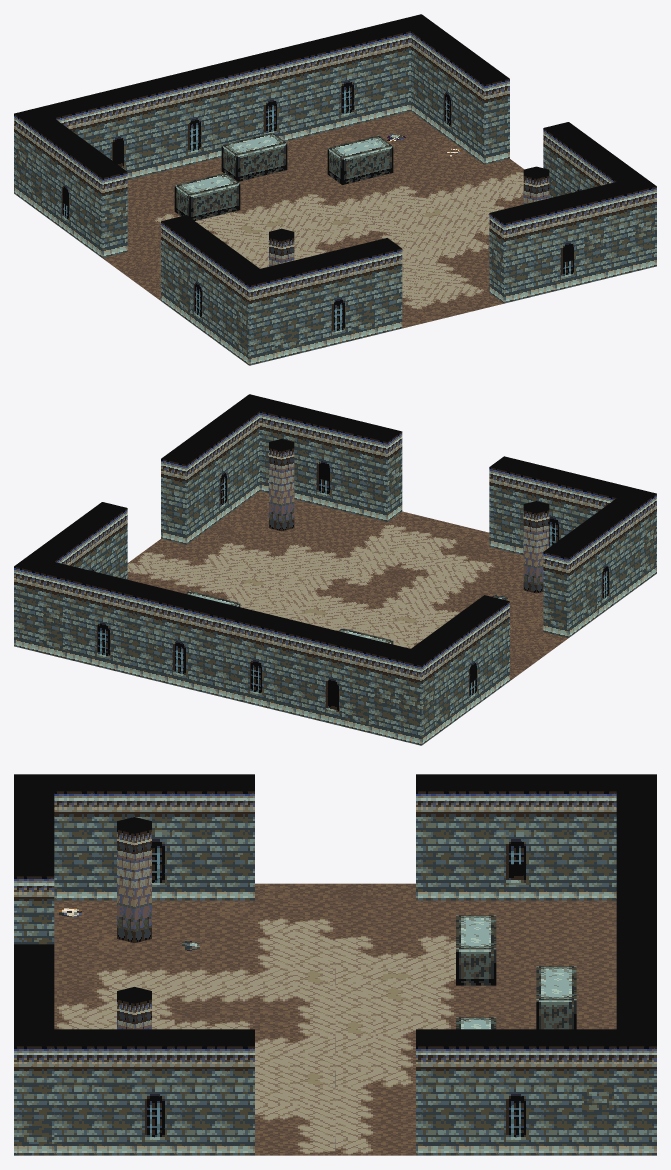
The model's file is room-swe-col.gltf.
3 renders of one model, top to bottom at view 1: azimuth 30°, elevation 25°; view 2: azimuth 150°, elevation 25°; view 3: azimuth 270°, elevation 25°, orthographic. The views are drawn at different scales.
Parts seen in each view (by area): view 1: room-swe-col; view 2: room-swe-col; view 3: room-swe-col.
Boxes of the visible parts, x1,y1,x2,y2 form: room-swe-col: (14, 14, 656, 365); room-swe-col: (14, 394, 656, 745); room-swe-col: (14, 774, 656, 1155).
Size of the model in its own units: 16 by 3 by 16.
Materials: 1 (1 with a texture image).
